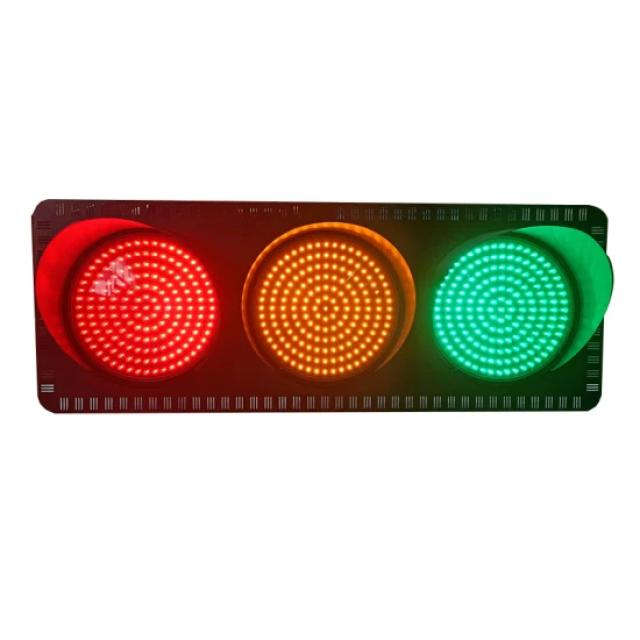Hijau: (434, 237, 574, 380)
Kuning: (258, 239, 396, 378)
Merah: (71, 232, 219, 379)
